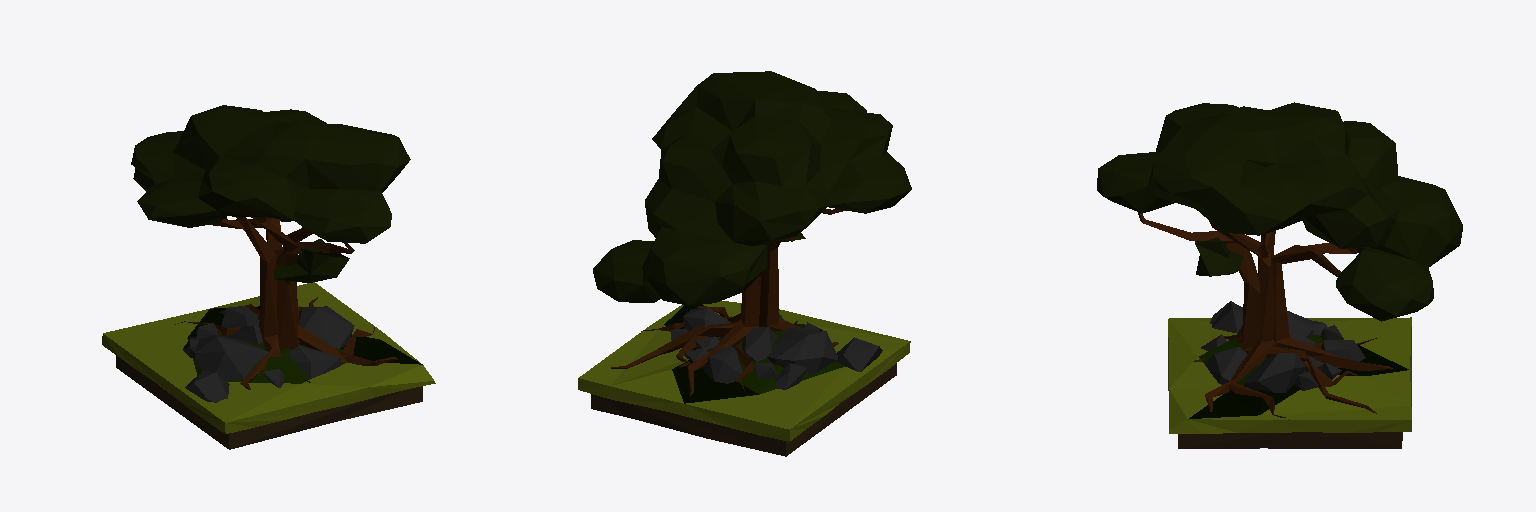
File: oak_tree_export.obj
The picture shows the model from 3 angles: view 1: azimuth 30°, elevation 25°; view 2: azimuth 150°, elevation 25°; view 3: azimuth 270°, elevation 25°; orthographic projection.
Parts seen in each view (by area): view 1: Mball.017_Mesh; view 2: Mball.017_Mesh; view 3: Mball.017_Mesh.
Part boxes in pixels (x1,y1,x2,y2): Mball.017_Mesh: (102, 105, 435, 449); Mball.017_Mesh: (578, 71, 911, 456); Mball.017_Mesh: (1097, 102, 1462, 448).
Size of the model in its own units: 4.74 by 4.99 by 6.02.